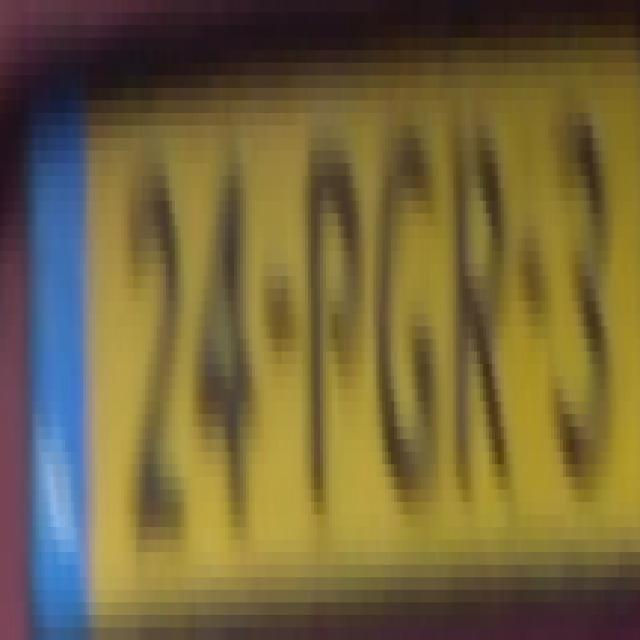2: (118, 148, 192, 582)
3: (546, 94, 610, 494)
4: (196, 140, 256, 532)
G: (374, 107, 442, 511)
P: (303, 118, 363, 515)
R: (448, 102, 514, 502)
